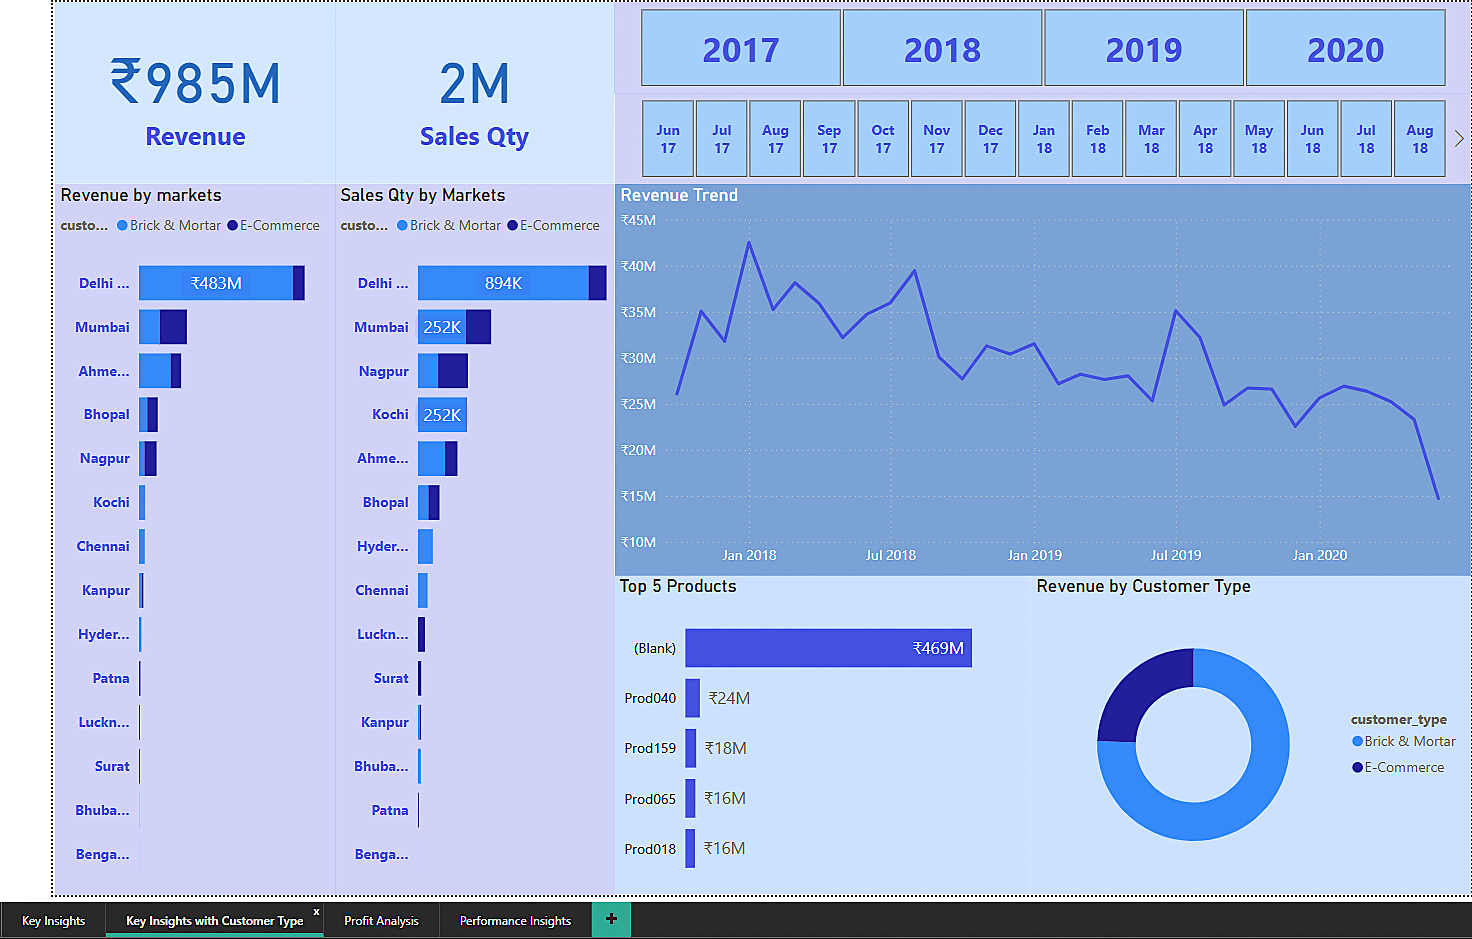

What the dashboard file says about the page in this screenshot:
{"tool":"powerbi","page":{"name":"Key Insights with Customer Type","canvas":[1350,850],"ordinal":1},"visuals":[{"type":"card","fields":{"Values":["BaseMeasures.Revenue"]},"box":[1.4,0,267.1,172.9],"z":0},{"type":"card","fields":{"Values":["BaseMeasures.Sales Qty"]},"box":[268.6,0,265.7,172.9],"z":1000},{"type":"barChart","title":"Revenue by markets","fields":{"Y":["BaseMeasures.Revenue"],"Category":["sales markets.markets_name"],"Series":["sales customers.customer_type"]},"box":[1.4,172.9,267.1,677.1],"z":2000},{"type":"barChart","title":"Sales Qty by Markets","fields":{"Y":["BaseMeasures.Sales Qty"],"Category":["sales markets.markets_name"],"Series":["sales customers.customer_type"]},"box":[268.6,172.9,265.7,677.1],"z":3000},{"type":"slicer","fields":{"Values":["sales date.year"]},"box":[534.3,0,815.7,87.1],"z":4000},{"type":"slicer","fields":{"Values":["sales date.cy_date"]},"box":[534.8,86.7,815.2,86.7],"z":5000},{"type":"donutChart","title":"Revenue by Customer  Type","fields":{"Category":["sales customers.customer_type"],"Y":["BaseMeasures.Revenue"]},"box":[931.4,545.7,418.6,304.3],"z":6000},{"type":"barChart","title":"Top 5 Products","fields":{"Y":["BaseMeasures.Revenue"],"Category":["sales products.product_code"]},"box":[534.3,545.7,397.1,304.3],"z":7000},{"type":"lineChart","title":"Revenue Trend","fields":{"Category":["sales date.cy_date"],"Y":["BaseMeasures.Revenue"]},"box":[534.8,173.4,815.2,372.9],"z":8000}]}

Visuals, with their boxes on the page's 1350x850 design canvas (x1, y1, x2, y2). These are canvas units, not pixel positions in the 1472x939 screenshot, which may show the page scaled, cropped or inside an application window:
card - BaseMeasures.Revenue: (left=1, top=0, right=268, bottom=173)
card - BaseMeasures.Sales Qty: (left=269, top=0, right=534, bottom=173)
"Revenue by markets" barChart: (left=1, top=173, right=268, bottom=850)
"Sales Qty by Markets" barChart: (left=269, top=173, right=534, bottom=850)
slicer - sales date.year: (left=534, top=0, right=1350, bottom=87)
slicer - sales date.cy_date: (left=535, top=87, right=1350, bottom=173)
"Revenue by Customer  Type" donutChart: (left=931, top=546, right=1350, bottom=850)
"Top 5 Products" barChart: (left=534, top=546, right=931, bottom=850)
"Revenue Trend" lineChart: (left=535, top=173, right=1350, bottom=546)
